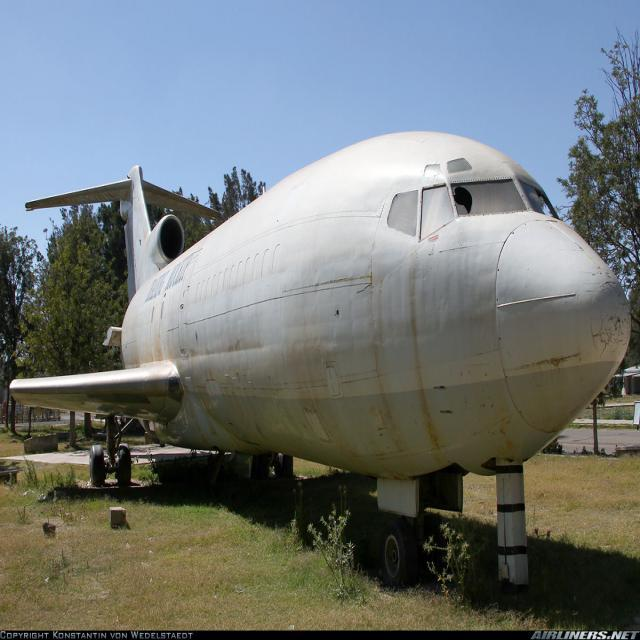crack: (356, 287, 381, 298)
